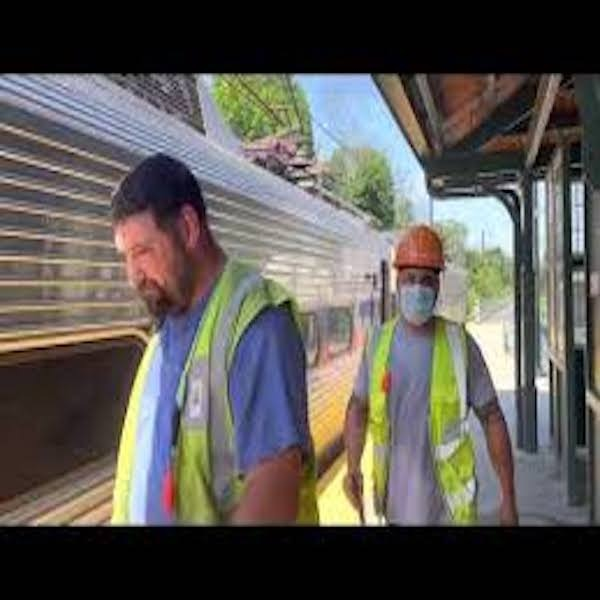helmet: (395, 222, 452, 272)
vest: (176, 264, 318, 530), (369, 314, 477, 531)
